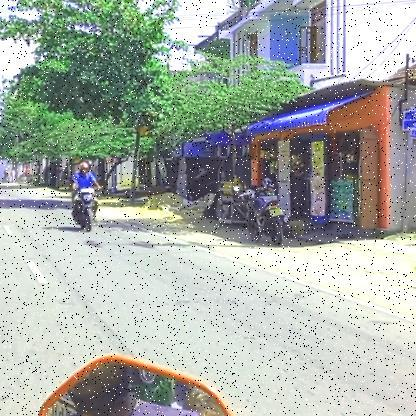motorcycle: (69, 188, 103, 235)
